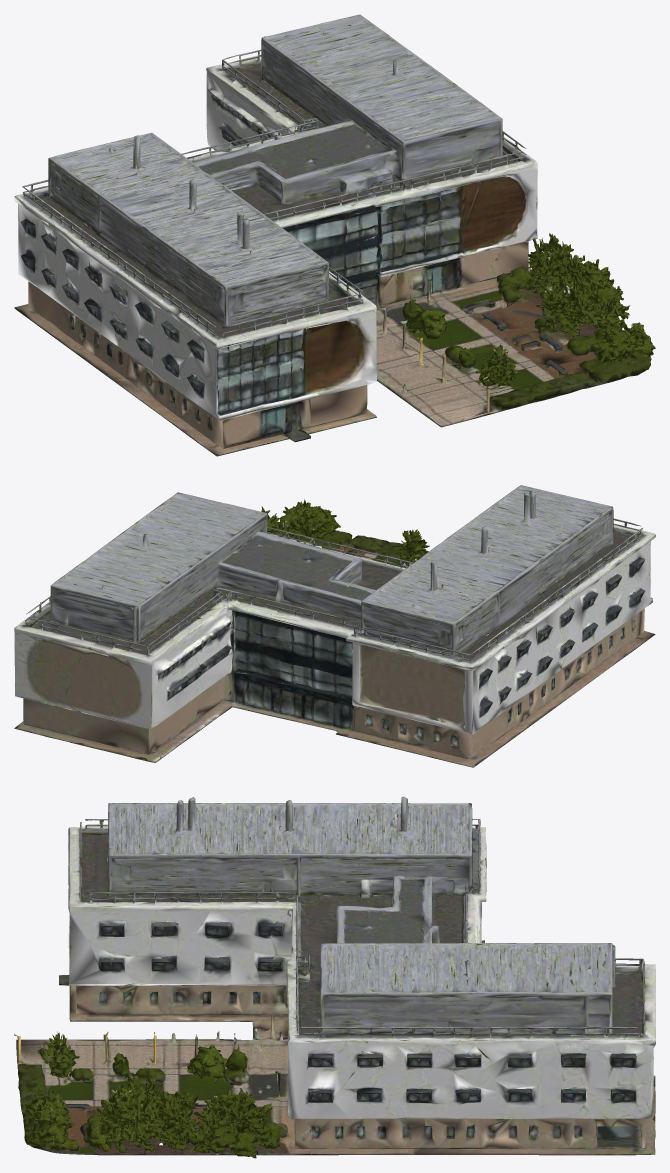
Rendered from ou_campus.glb.
3 views of the same model, one above another, from view 1: azimuth 30°, elevation 25°; view 2: azimuth 150°, elevation 25°; view 3: azimuth 270°, elevation 25° (orthographic). The views are drawn at different scales.
Size of the model in its own units: 1.57 by 0.6073 by 1.9.
Materials: 1 (1 with a texture image).
